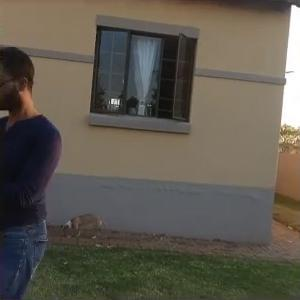follow: (0, 41, 65, 298)
null: (59, 209, 117, 242)
